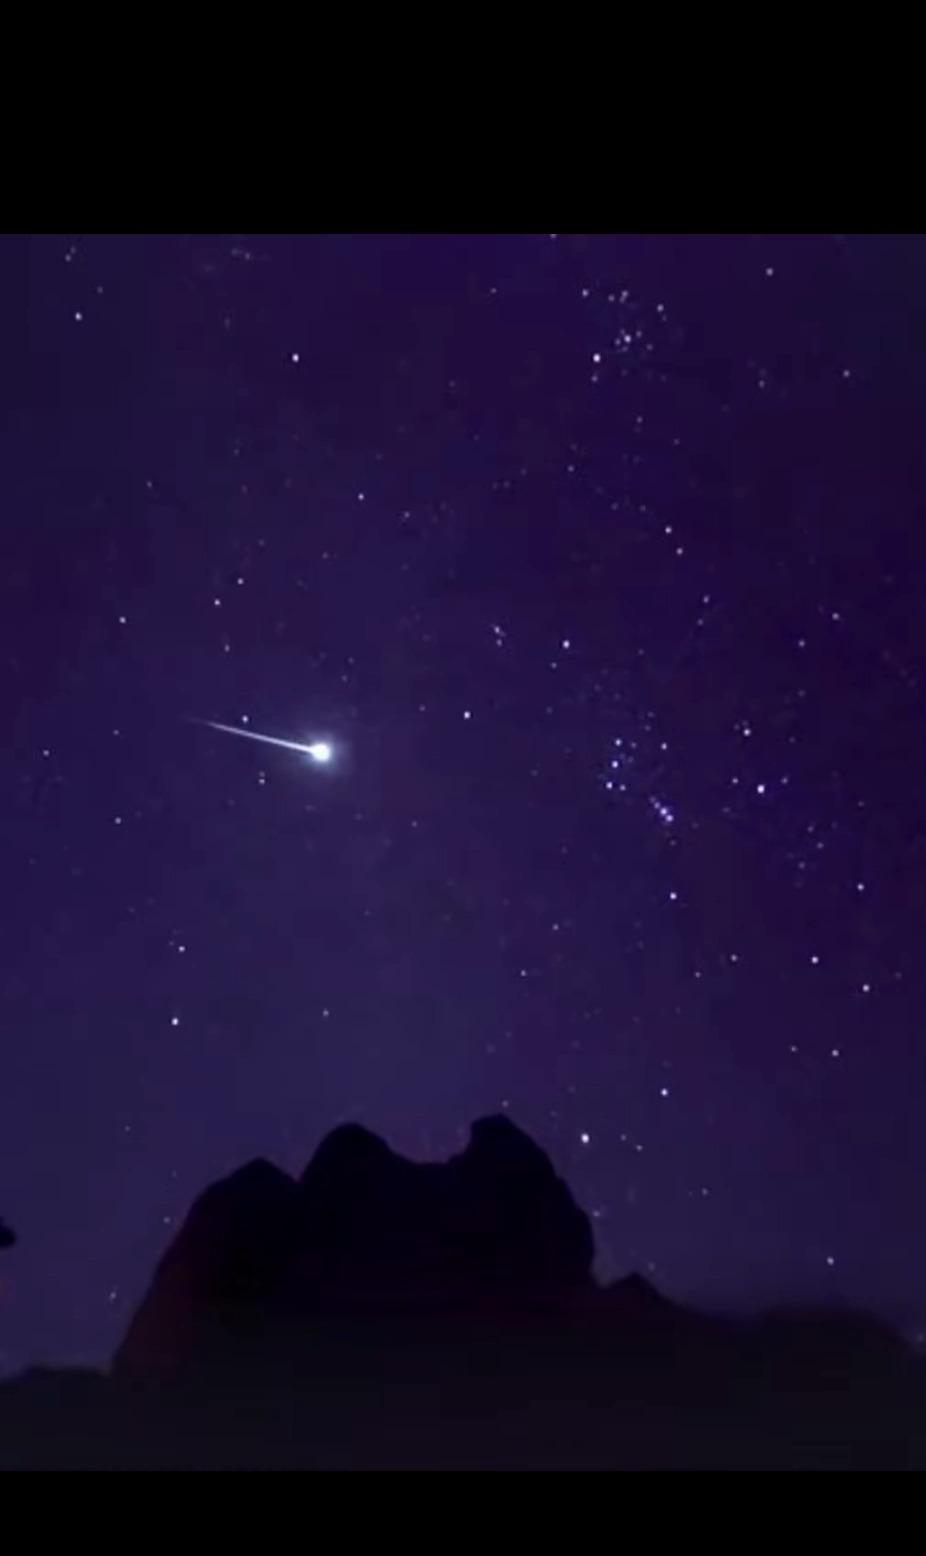meteorite: (190, 706, 359, 781)
